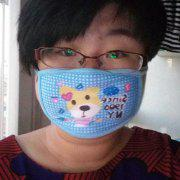OK: (36, 26, 142, 132)
